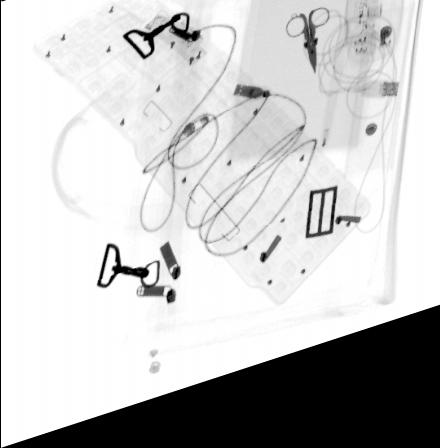Scissors: (284, 26, 331, 96)
